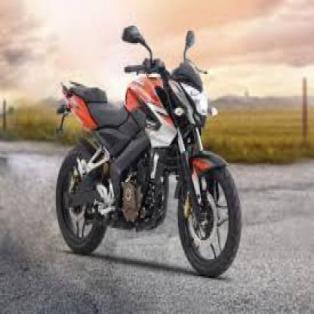Motocicleta: (49, 21, 244, 279)
